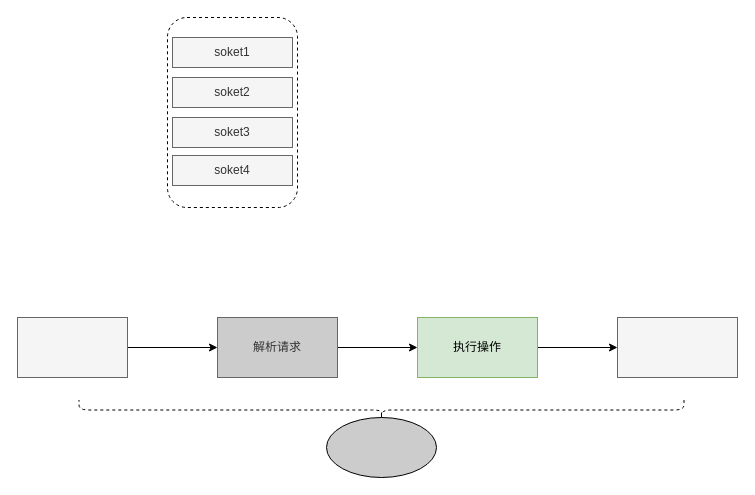
This 755x495 diagram has some shape labels left out. Each missing label, with the centre of its shape:
串行耗时IO操作: pixel 381 447
写入socket: pixel 677 347
读取soket: pixel 72 347
